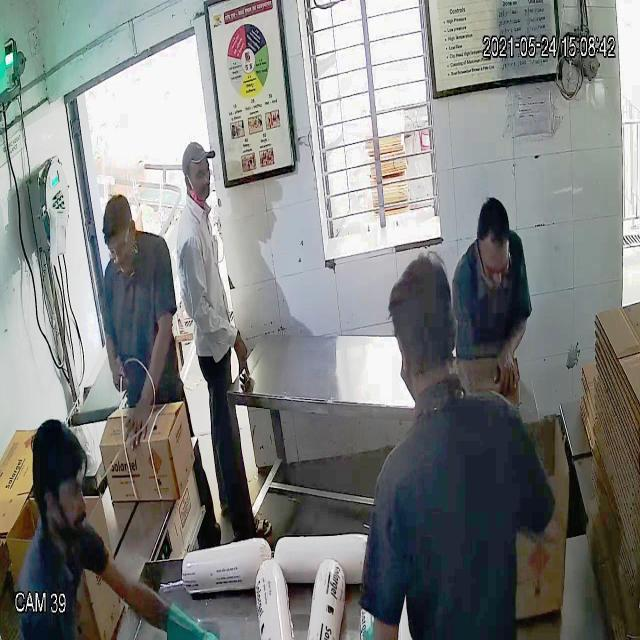glasses: (100, 227, 133, 265)
no-glass: (181, 159, 213, 186)
